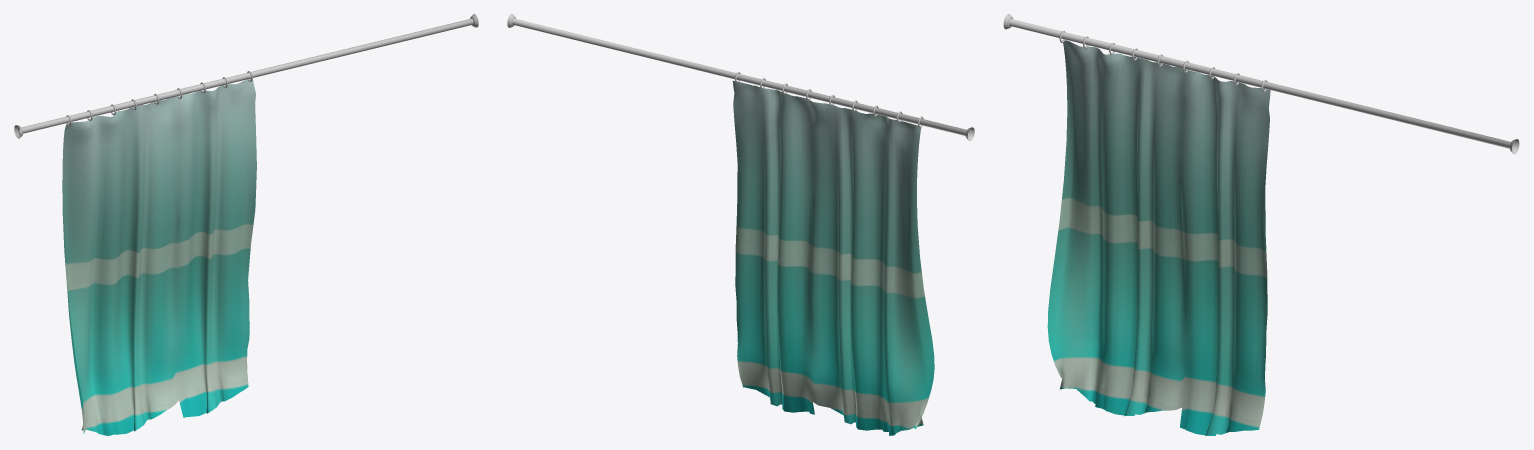
Rendered from SM_BathCurtains_A1.fbx.
3 views of the same model, side by side, from view 1: azimuth 30°, elevation 25°; view 2: azimuth 150°, elevation 25°; view 3: azimuth 330°, elevation 25° (orthographic). The views are drawn at different scales.
Visible parts, largest first — view 1: SM_BathCurtains_A1; view 2: SM_BathCurtains_A1; view 3: SM_BathCurtains_A1.
Part boxes in pixels (left/top/right/bottom): SM_BathCurtains_A1: left=14, top=14, right=478, bottom=435; SM_BathCurtains_A1: left=507, top=14, right=974, bottom=435; SM_BathCurtains_A1: left=1003, top=14, right=1519, bottom=435.
Bounding box in the file's own units: 267 × 18.71 × 184.
